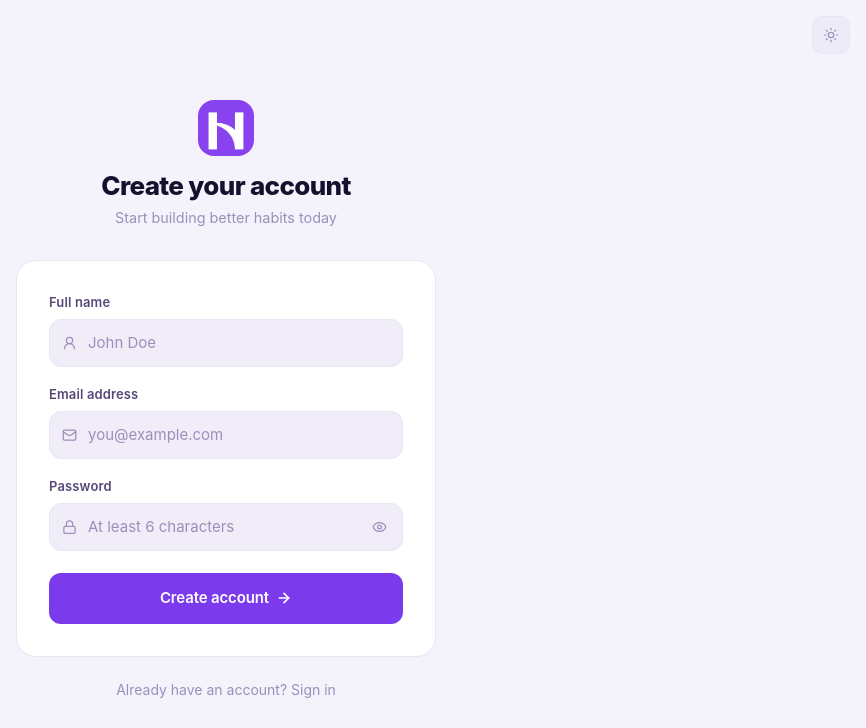
Test case: auth flow › shows an error for duplicate signup email
Type "Someone" into the field with test id "auth-signup-name".
click(226, 343); type("Someone")  # box [49,319,403,367]
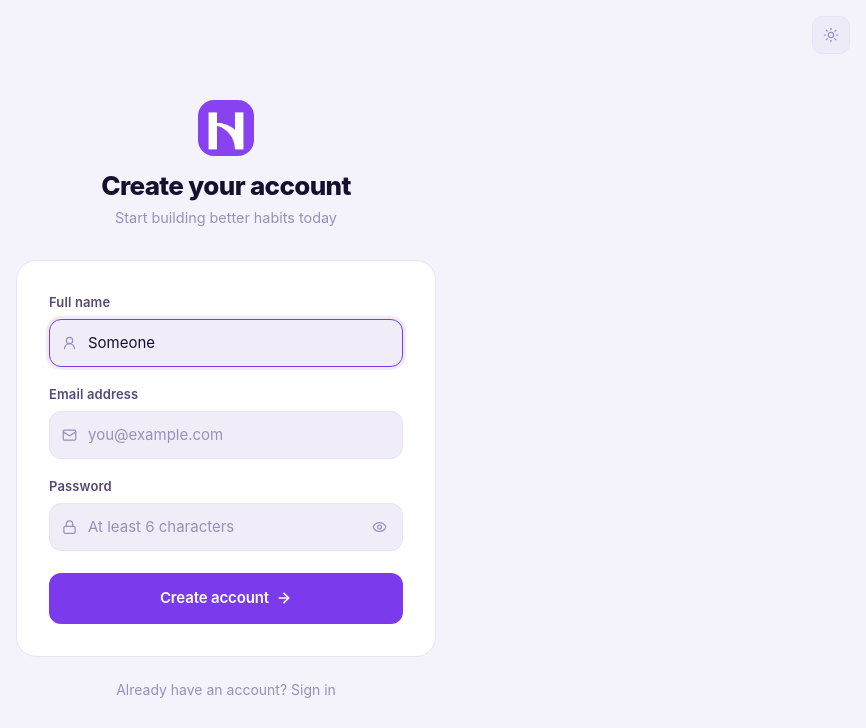
Type "existing@test.com" into the field with test id "auth-signup-email".
click(226, 435); type("existing@test.com")  # box [49,411,403,459]
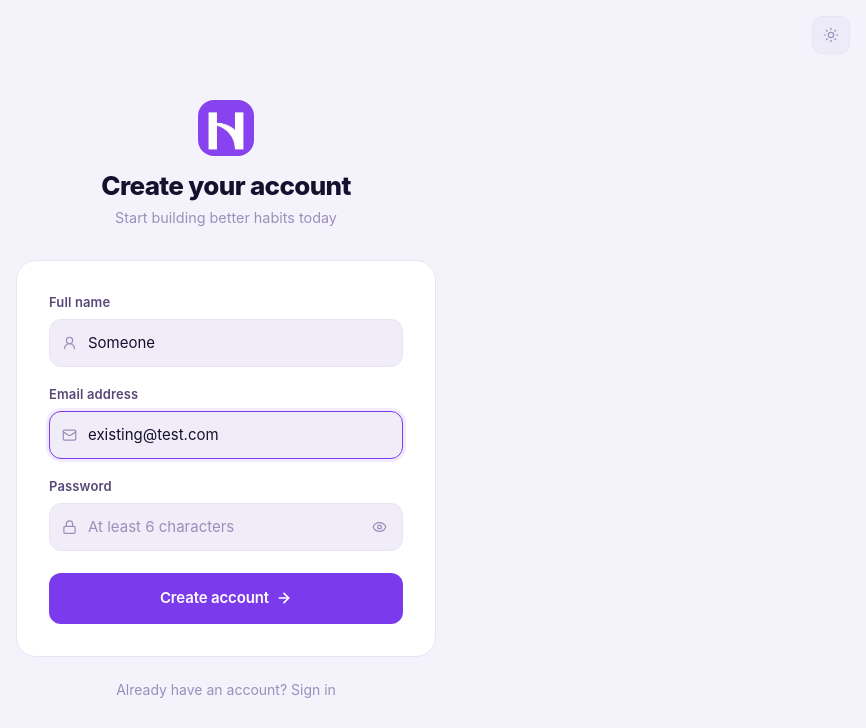
Type "anypassword" into the password field with test id "auth-signup-password".
click(226, 527); type("anypassword")  # box [49,503,403,551]
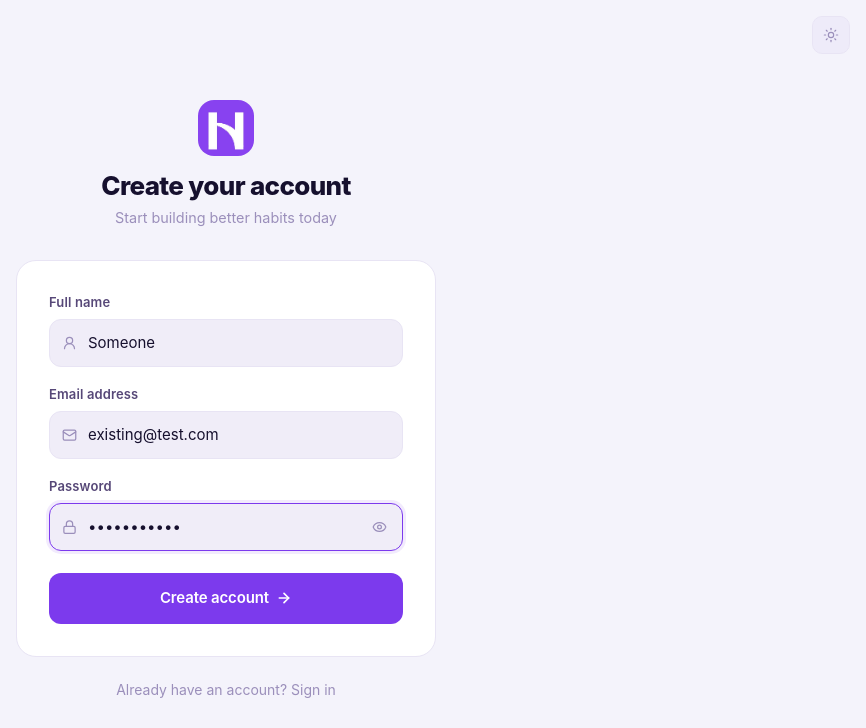
Click the button with test id "auth-signup-submit".
click(226, 598)  # box [49,573,403,624]
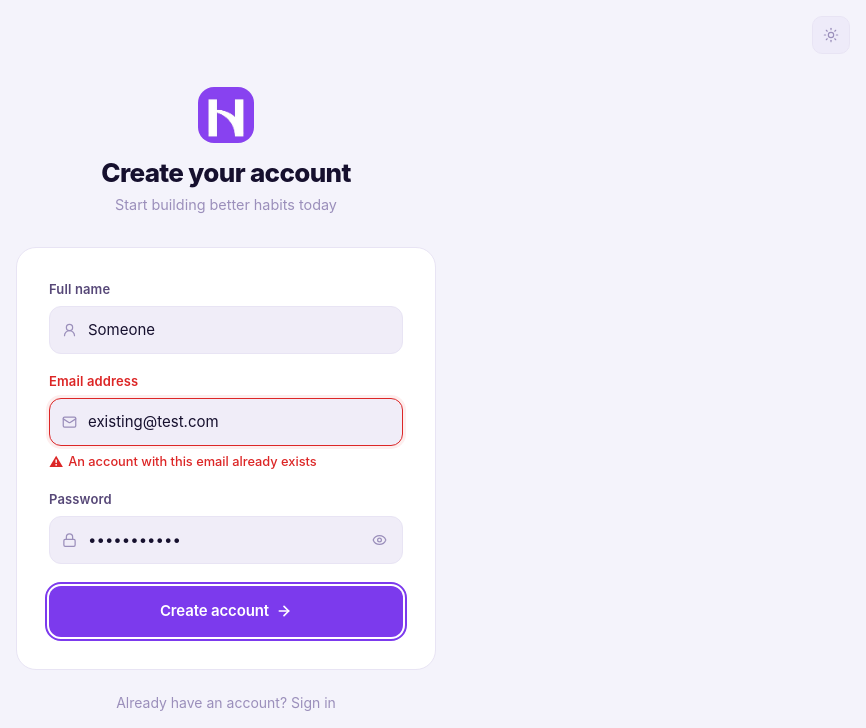
Check: the text "⚠ An account with this email already exists" is shown, box [49,453,317,470]
